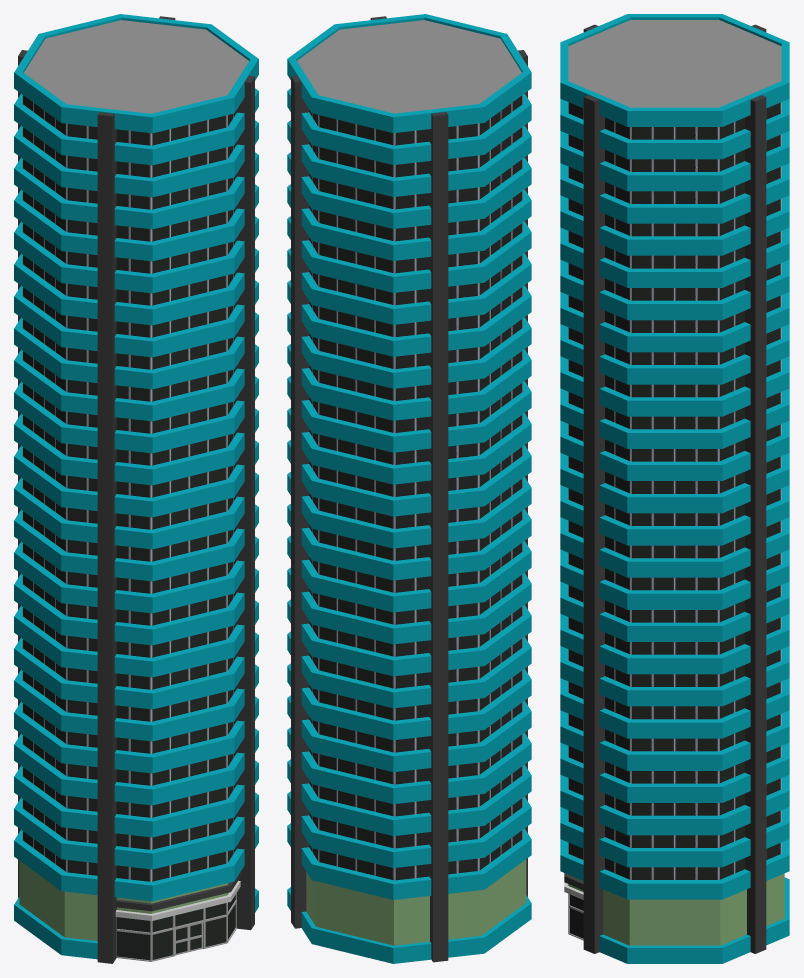
3 views of the same model, side by side, from view 1: azimuth 30°, elevation 25°; view 2: azimuth 150°, elevation 25°; view 3: azimuth 270°, elevation 25° (orthographic).
Parts seen in each view (by area): view 1: EC-15; view 2: EC-15; view 3: EC-15.
Part boxes in pixels (left/top/right/bottom): EC-15: left=14, top=14, right=258, bottom=963; EC-15: left=287, top=14, right=531, bottom=963; EC-15: left=560, top=14, right=789, bottom=963.
Size of what is drawn, in the model's own units: 19.37 by 79.5 by 19.37.
